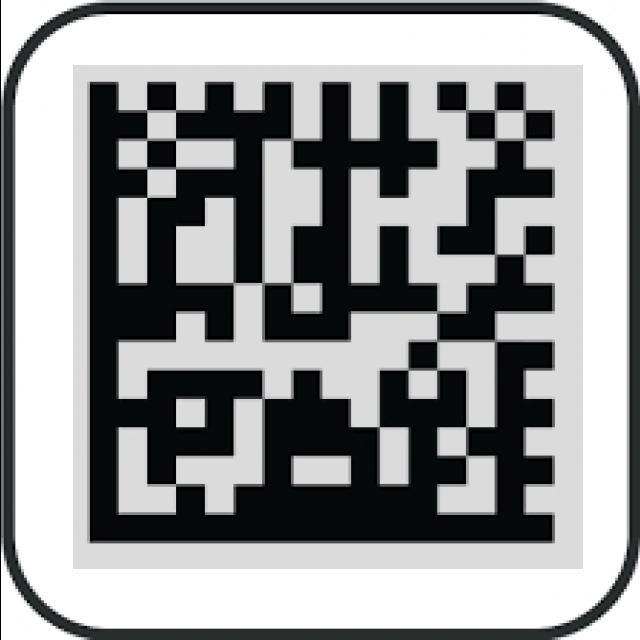DataMatrix: (72, 65, 582, 569)
